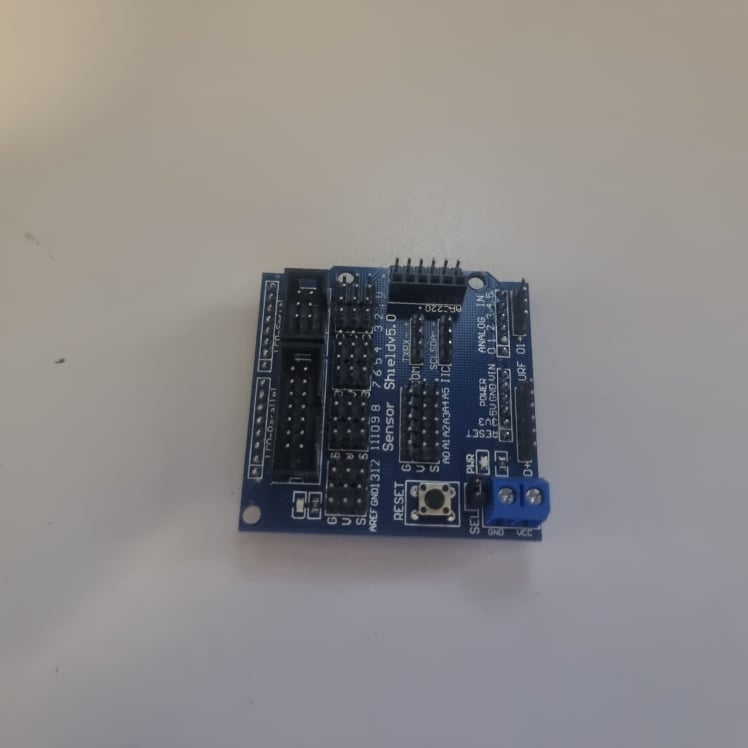5V EXPANSION: (239, 260, 552, 545)
